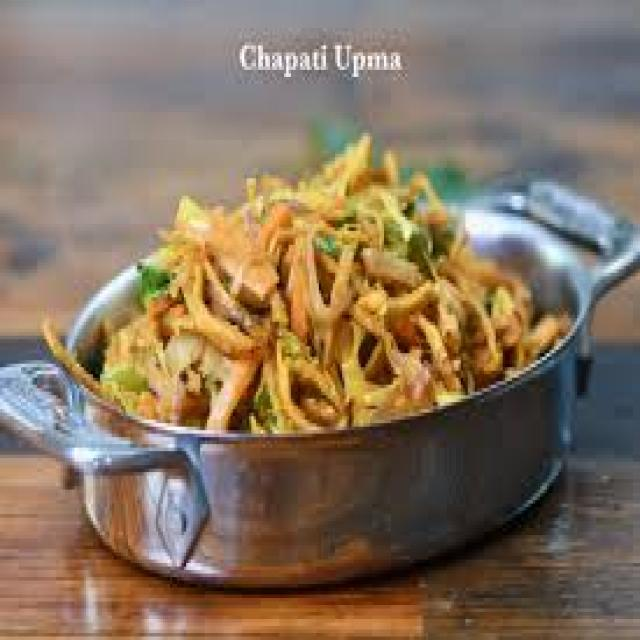POHA: (93, 140, 566, 427)
